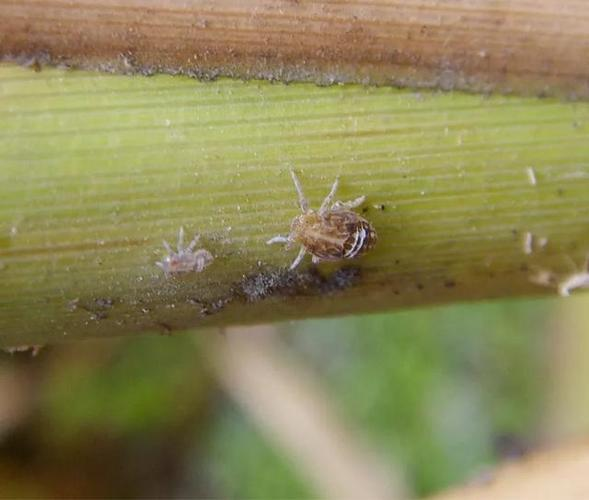Delphacidae: (266, 167, 380, 268), (153, 226, 214, 275)
